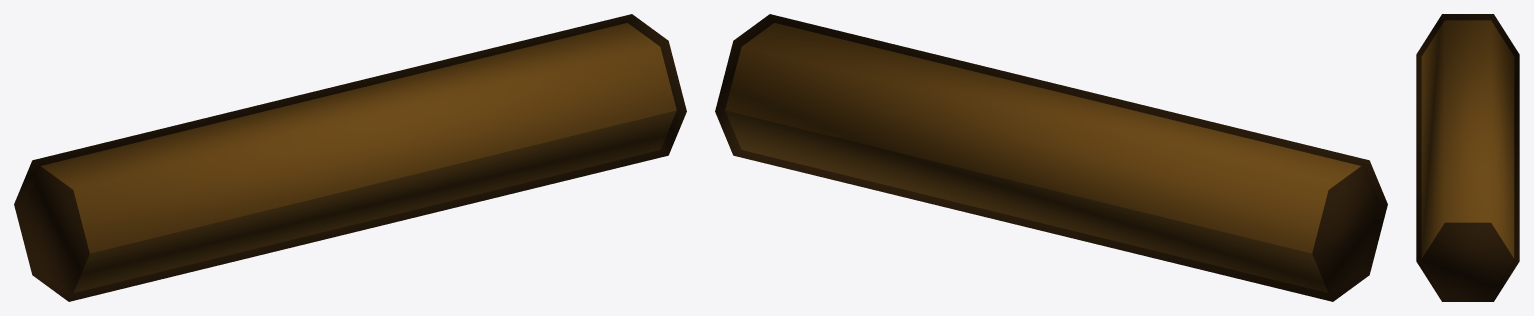
File: Lumber.FBX
3 renders of one model, left to right at view 1: azimuth 30°, elevation 25°; view 2: azimuth 150°, elevation 25°; view 3: azimuth 270°, elevation 25°, orthographic. The views are drawn at different scales.
Visible parts, largest first — view 1: Lumber; view 2: Lumber; view 3: Lumber.
Part boxes in pixels (box(x1,y1,x2,y2)): Lumber: box(14, 14, 686, 301); Lumber: box(715, 14, 1387, 301); Lumber: box(1416, 14, 1519, 301).
Size of the model in its own units: 143 by 26.08 by 30.12.
1 material, 1 textured.
